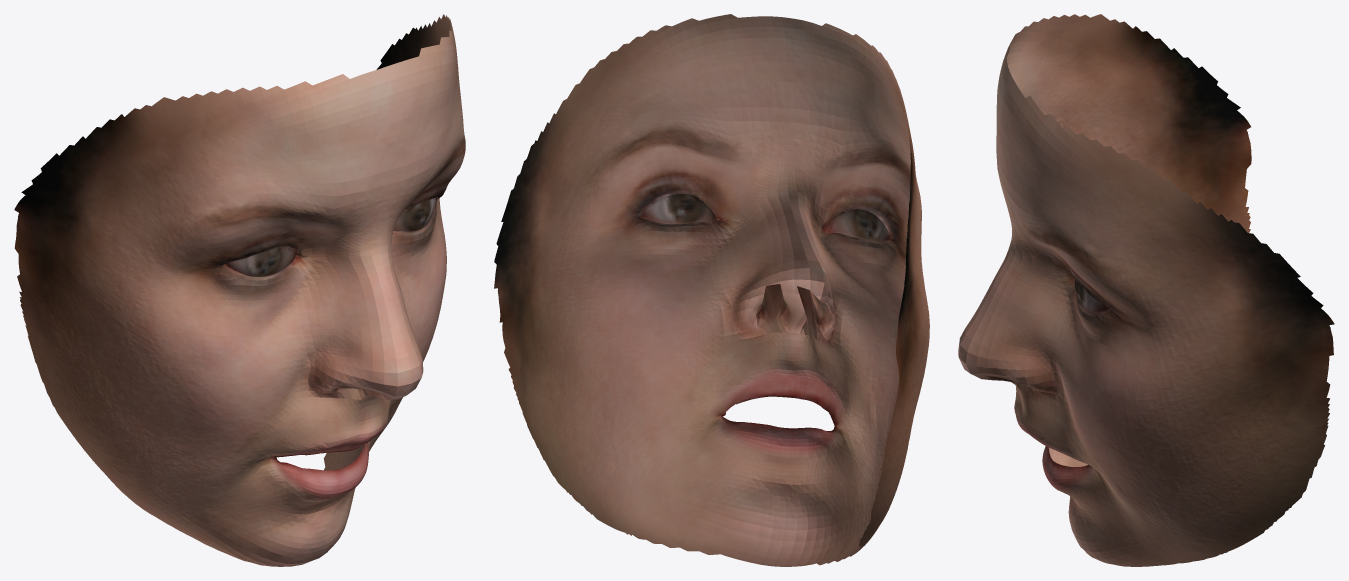
Rendered from frame_937_mesh.obj.
3 renders of one model, left to right at view 1: azimuth 30°, elevation 25°; view 2: azimuth 150°, elevation 25°; view 3: azimuth 270°, elevation 25°, orthographic. The views are drawn at different scales.
Size of the model in its own units: 1.3 by 1.67 by 1.13.
